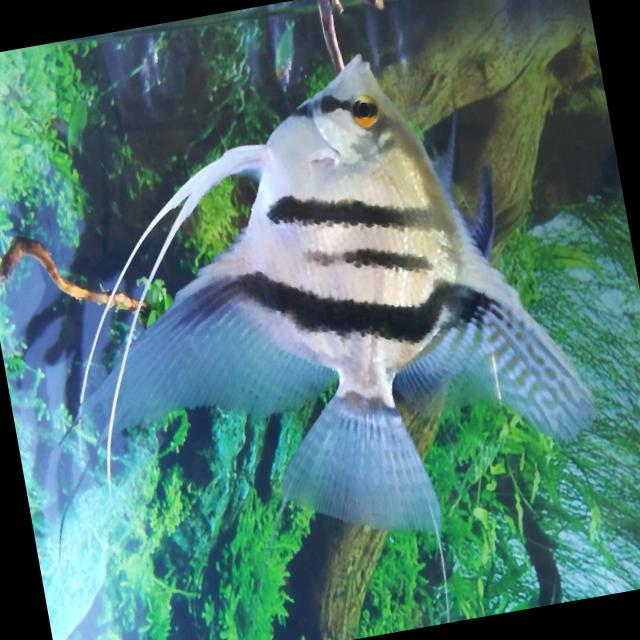AngelFish: (19, 23, 610, 591)
